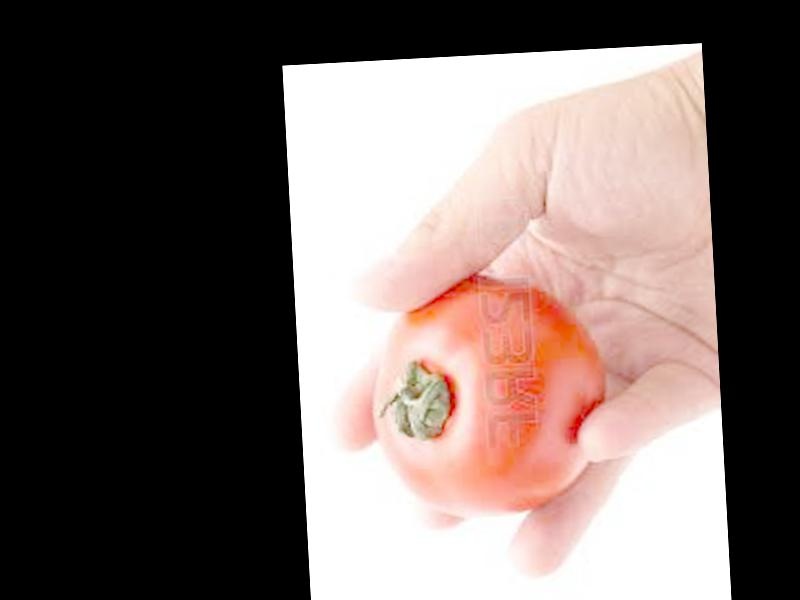Tomato: (366, 271, 611, 523)
